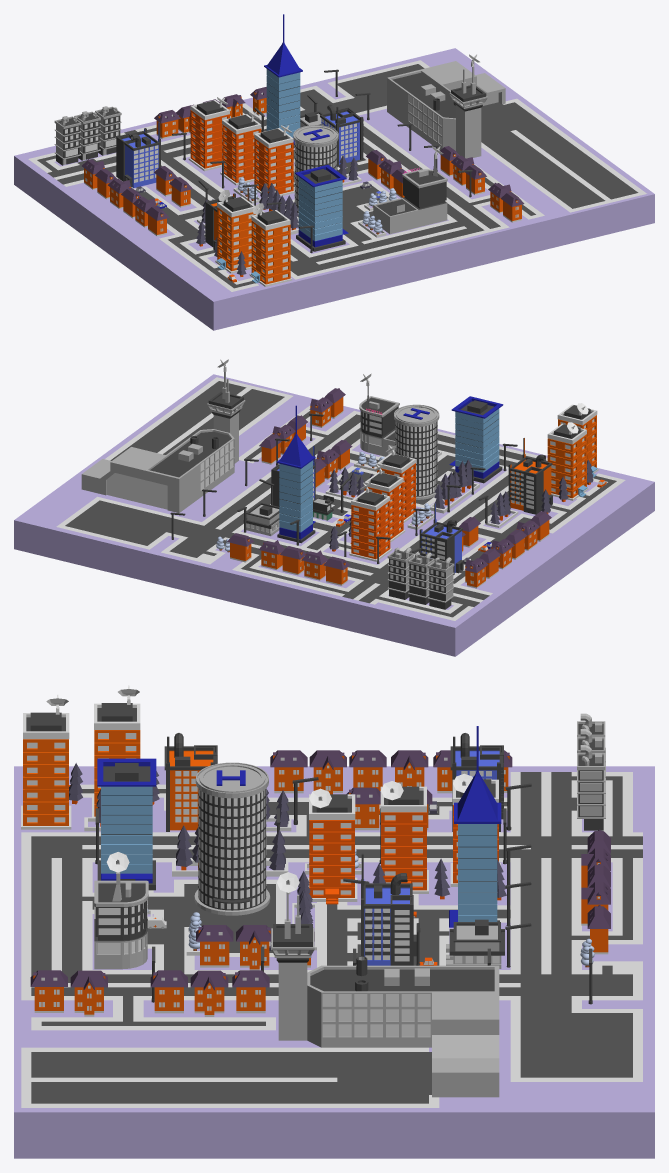
File: City11.fbx
The picture shows the model from 3 angles, top to bottom: view 1: azimuth 30°, elevation 25°; view 2: azimuth 150°, elevation 25°; view 3: azimuth 270°, elevation 25°; orthographic projection. The views are drawn at different scales.
Visible parts, largest first — view 1: Cylinder.012; view 2: Cylinder.012; view 3: Cylinder.012.
Part boxes in pixels (<box>): Cylinder.012: <box>14,14,654,330</box>; Cylinder.012: <box>14,359,654,656</box>; Cylinder.012: <box>14,685,654,1158</box>.
Bounding box in the file's own units: 10451 × 3581 × 8181.
